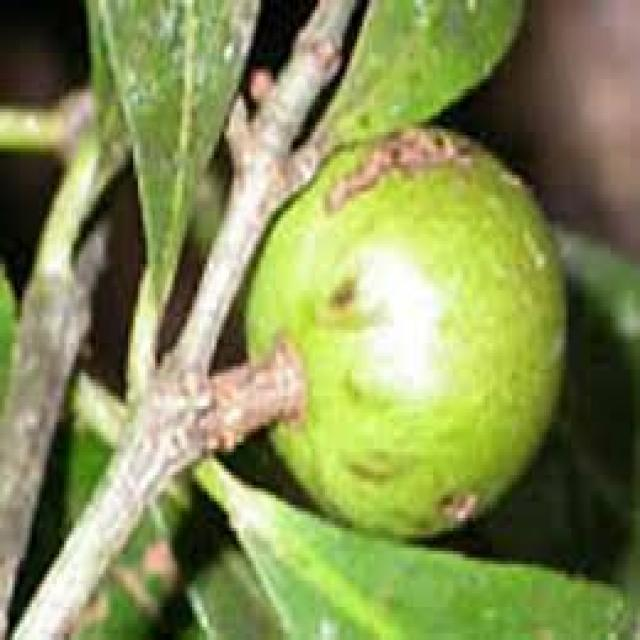organic waste: (244, 125, 566, 538)
